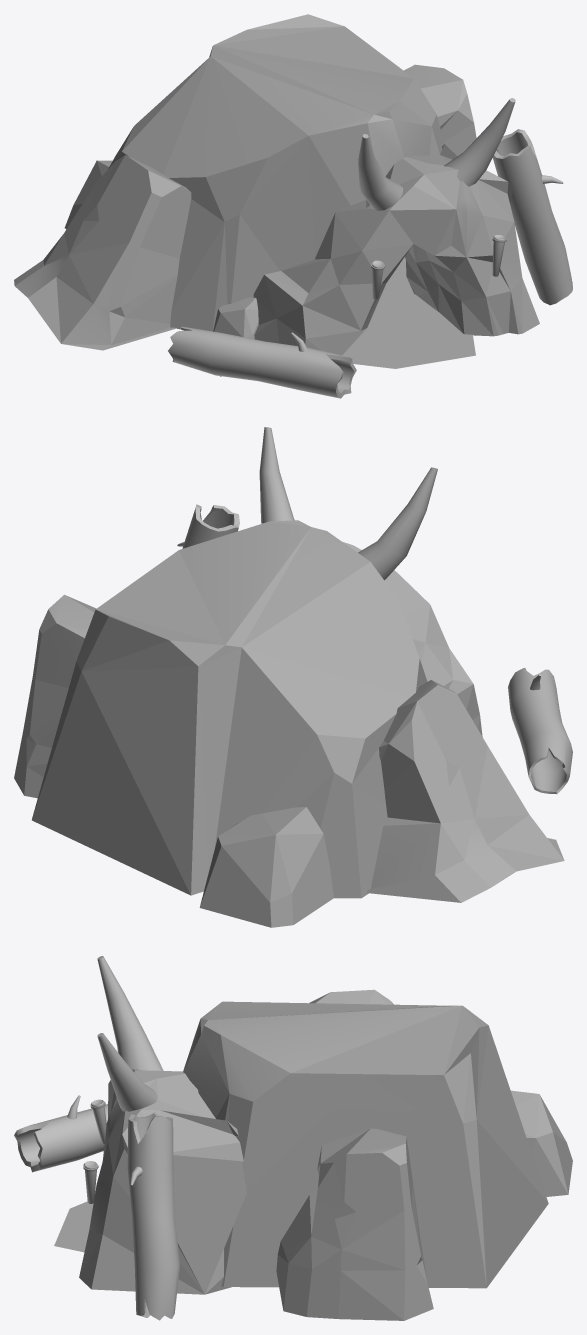
Rendered from Trollbarrack_lvl2 1.fbx.
The picture shows the model from 3 angles, top to bottom: view 1: azimuth 30°, elevation 25°; view 2: azimuth 150°, elevation 25°; view 3: azimuth 270°, elevation 25°; orthographic projection. The views are drawn at different scales.
Parts seen in each view (by area): view 1: Lvl2_TrollBarrack; view 2: Lvl2_TrollBarrack; view 3: Lvl2_TrollBarrack.
Part boxes in pixels (x1,y1,x2,y2): Lvl2_TrollBarrack: (14,14,572,398); Lvl2_TrollBarrack: (14,427,572,927); Lvl2_TrollBarrack: (14,956,572,1320).
Bounding box in the file's own units: 6.1 × 3.12 × 6.23.
